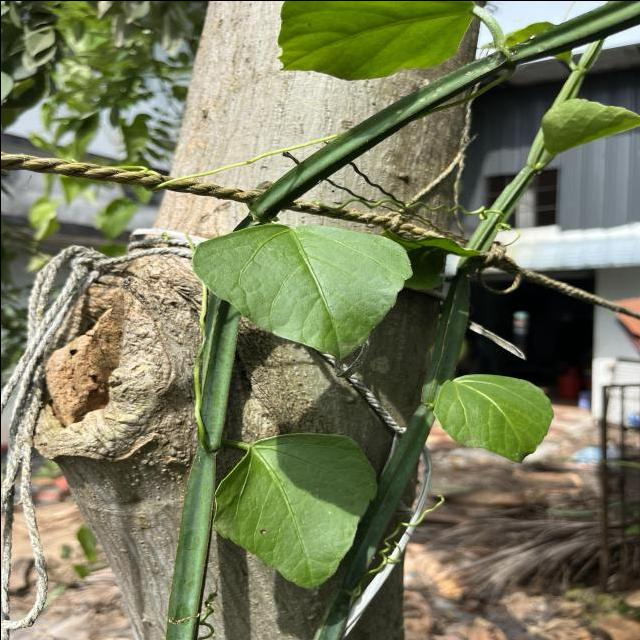Cissus quadrangularis: (187, 222, 415, 362), (210, 428, 380, 592), (430, 372, 554, 464)
